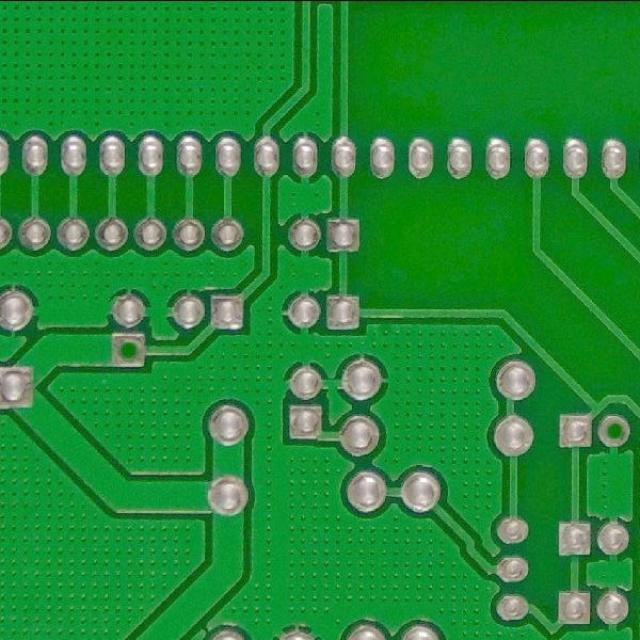missing_hole: (597, 409, 639, 448), (110, 330, 150, 367)
